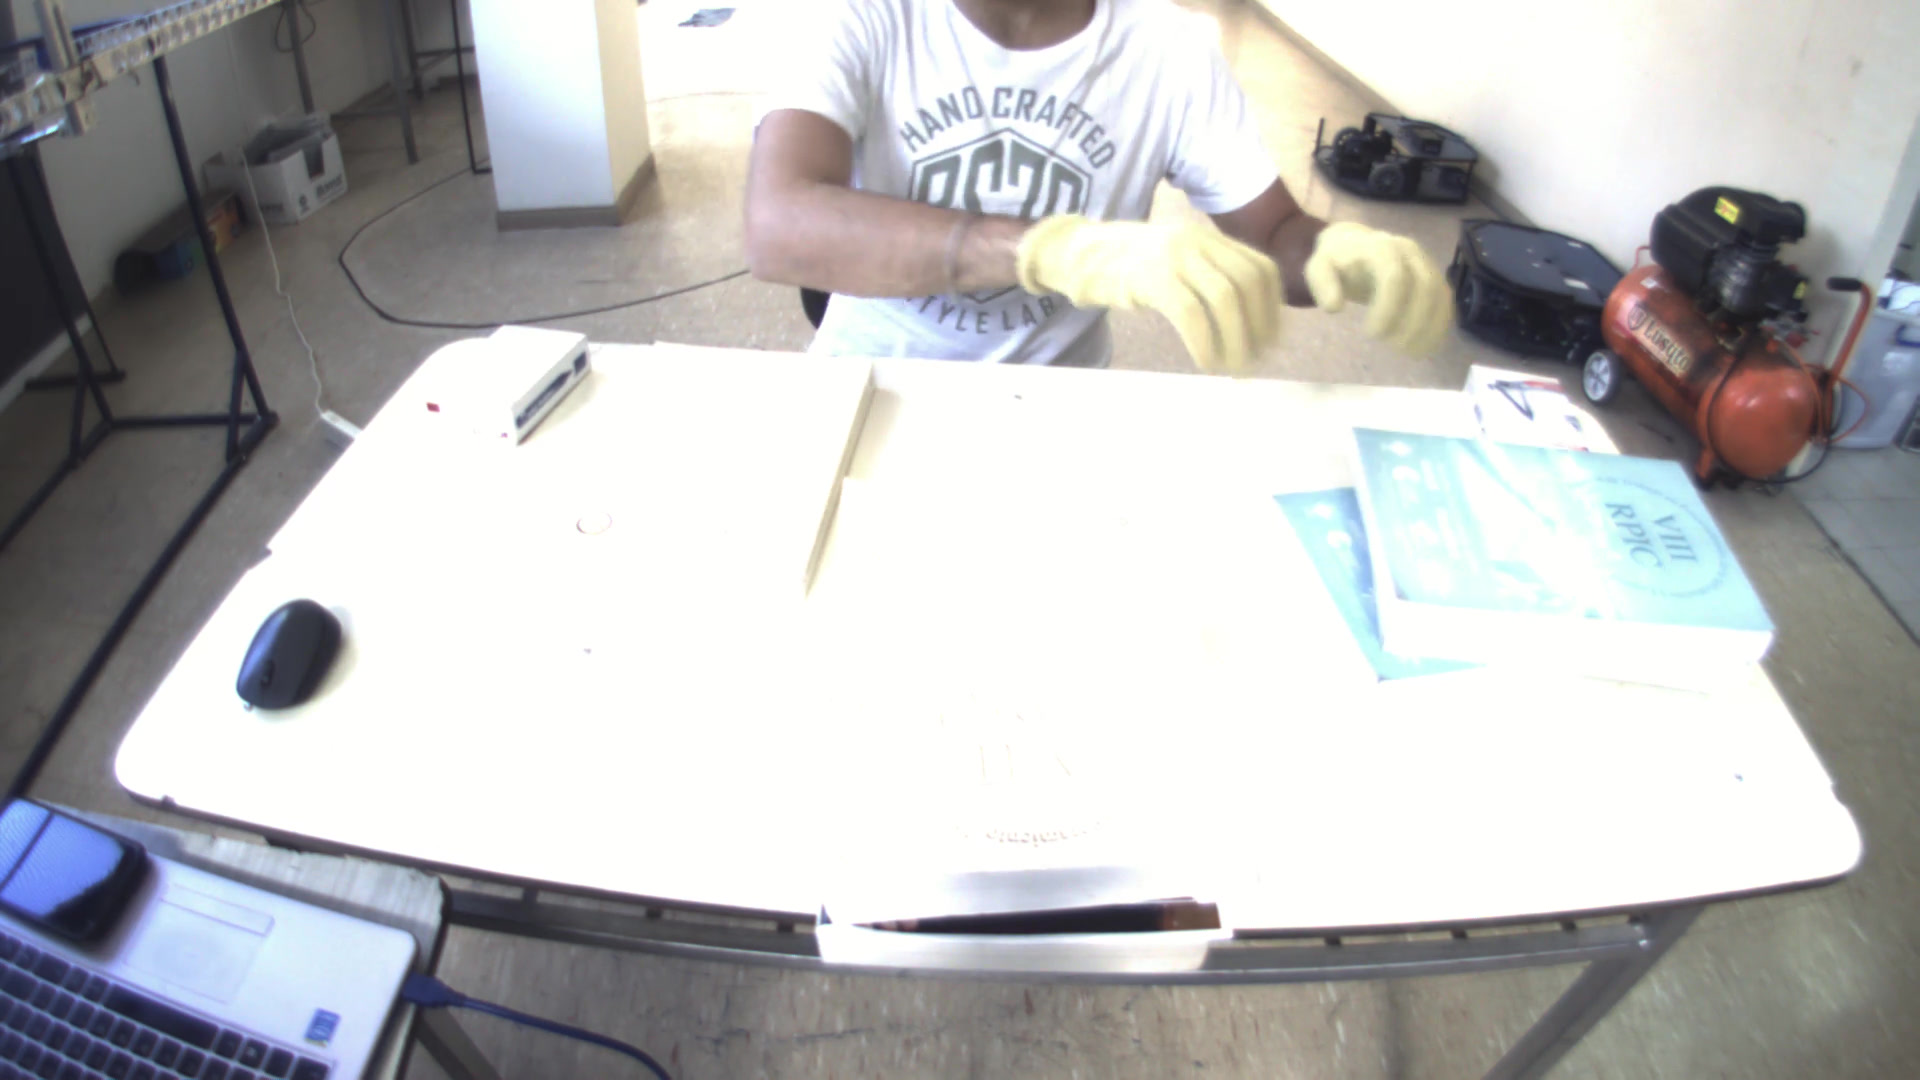hand: (996, 202, 1294, 376), (1305, 211, 1464, 367)
